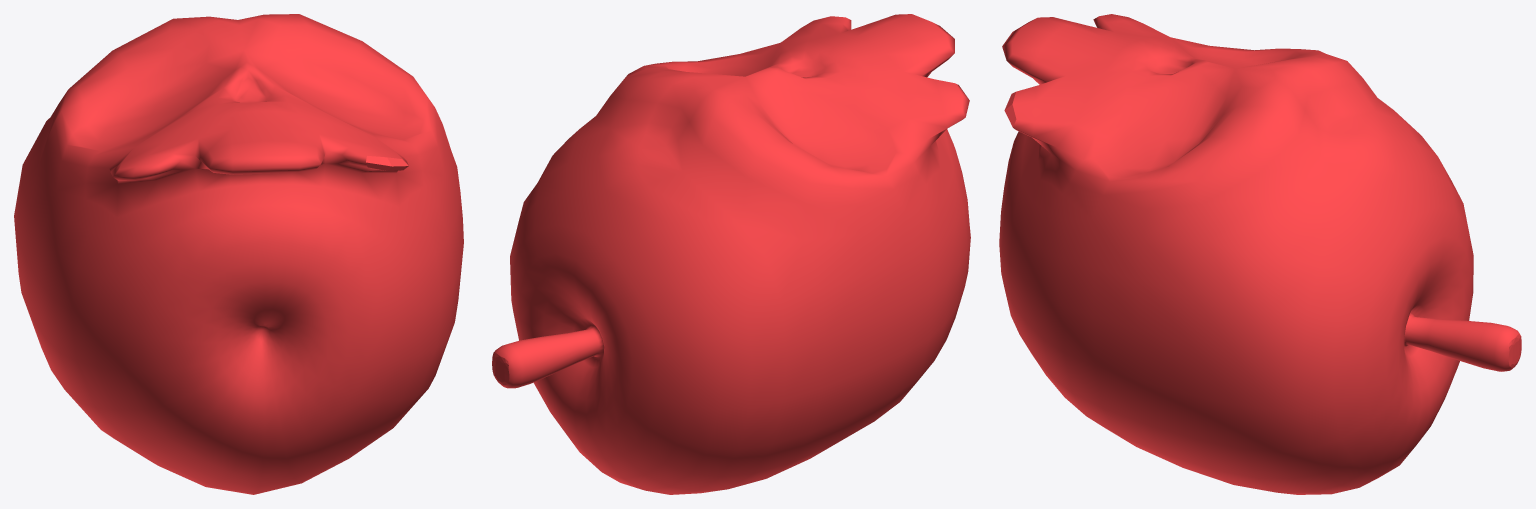
File: ToyObject_020.fbx
The picture shows the model from 3 angles, left to right: view 1: azimuth 30°, elevation 25°; view 2: azimuth 150°, elevation 25°; view 3: azimuth 270°, elevation 25°; orthographic projection. The views are drawn at different scales.
Visible parts, largest first — view 1: 1.042; view 2: 1.042; view 3: 1.042.
Part boxes in pixels (x1=…): 1.042: x1=14, y1=14, x2=463, y2=494; 1.042: x1=492, y1=14, x2=970, y2=494; 1.042: x1=999, y1=14, x2=1521, y2=494.
Size of the model in its own units: 0.172 by 0.1705 by 0.1995.
